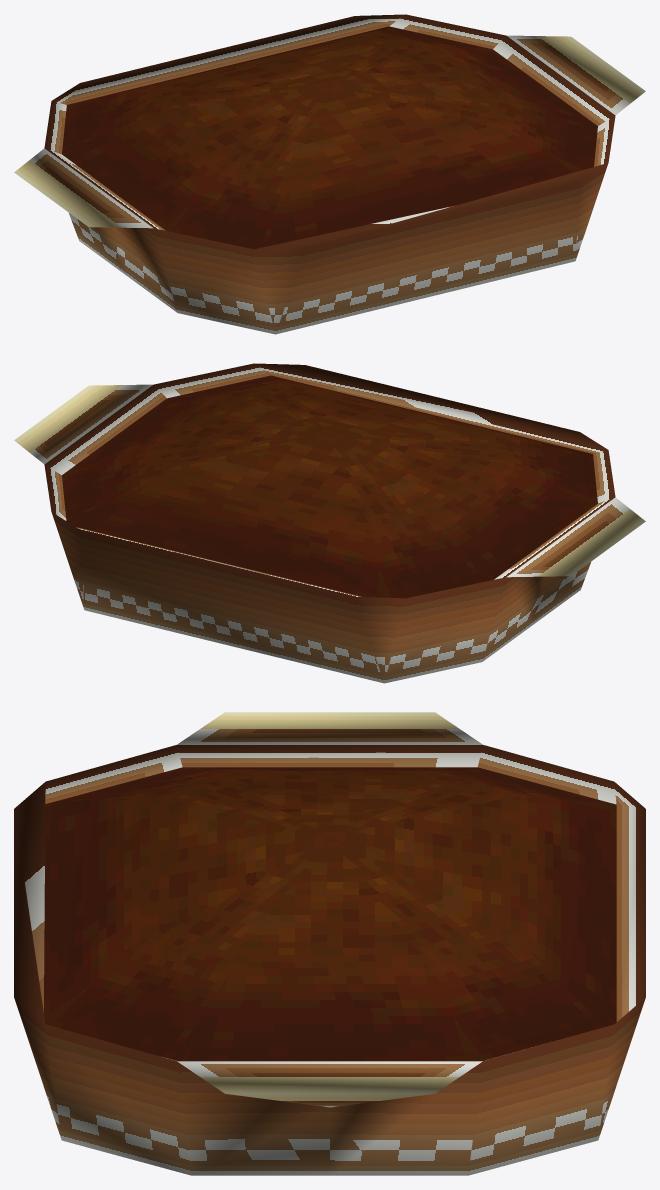
3 renders of one model, top to bottom at view 1: azimuth 30°, elevation 25°; view 2: azimuth 150°, elevation 25°; view 3: azimuth 270°, elevation 25°, orthographic. The views are drawn at different scales.
Parts seen in each view (by area): view 1: 1148ucc_mis_pie0; view 2: 1148ucc_mis_pie0; view 3: 1148ucc_mis_pie0.
Boxes of the visible parts, x1,y1,x2,y2 form: 1148ucc_mis_pie0: [14, 14, 645, 334]; 1148ucc_mis_pie0: [14, 363, 645, 683]; 1148ucc_mis_pie0: [14, 712, 645, 1175].
Bounding box in the file's own units: 0.7397 × 0.2183 × 0.5178.
Materials: 4 (4 with a texture image).
